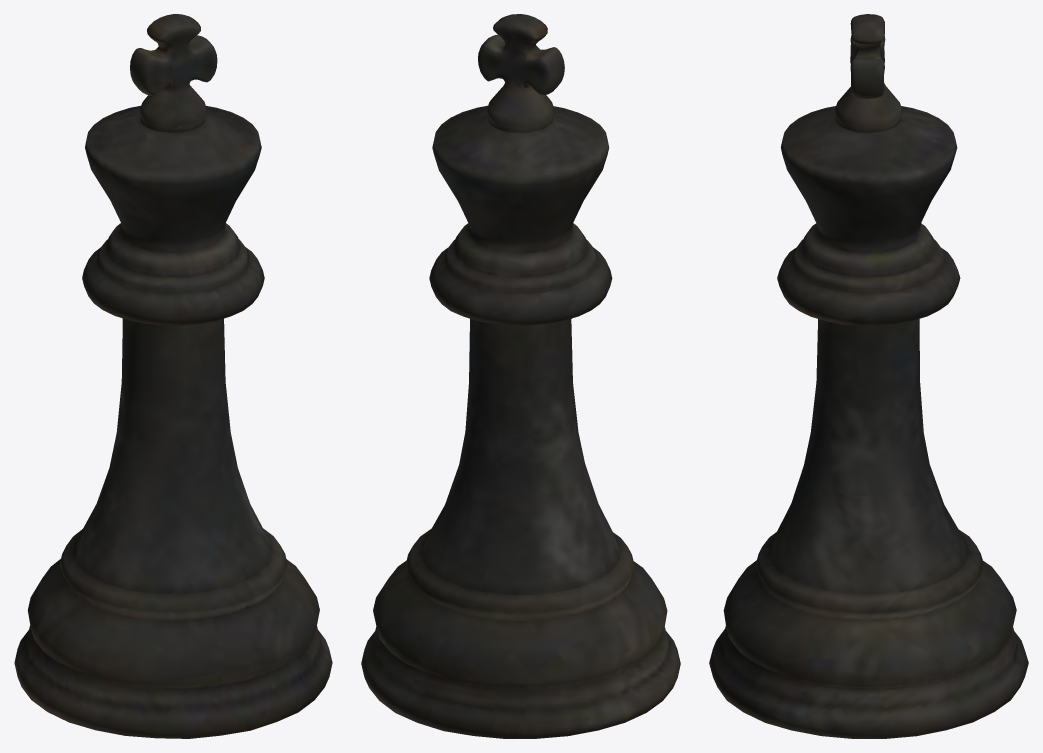
The model's file is king_black.glb.
3 renders of one model, left to right at view 1: azimuth 30°, elevation 25°; view 2: azimuth 150°, elevation 25°; view 3: azimuth 270°, elevation 25°, orthographic.
Parts seen in each view (by area): view 1: piece_king_black; view 2: piece_king_black; view 3: piece_king_black.
Part boxes in pixels (x1,y1,x2,y2): piece_king_black: (14, 14, 332, 738); piece_king_black: (361, 14, 680, 738); piece_king_black: (709, 14, 1028, 738).
Size of the model in its own units: 0.0415 by 0.095 by 0.0417.
Materials: 1 (1 with a texture image).
